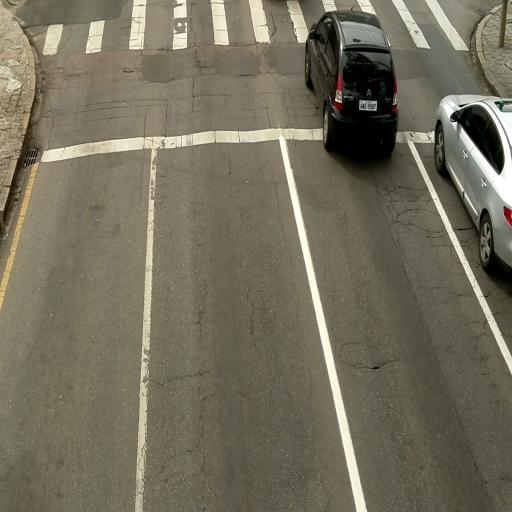car: (434, 93, 511, 279), (303, 8, 396, 160)
